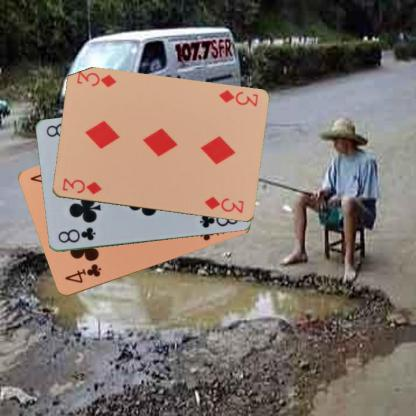3d: (216, 87, 260, 108), (59, 176, 103, 196)
4c: (62, 261, 103, 285)
8c: (55, 225, 97, 244)
